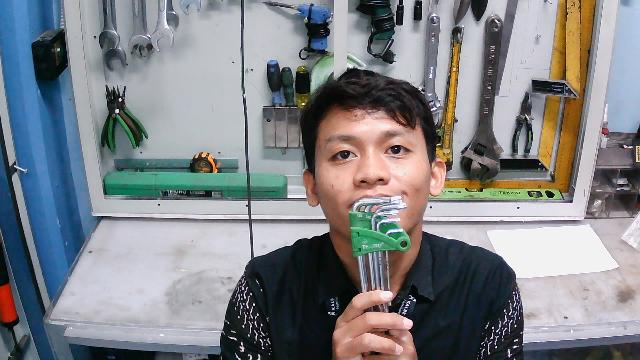kunci_l_bintang: (346, 191, 419, 347)
